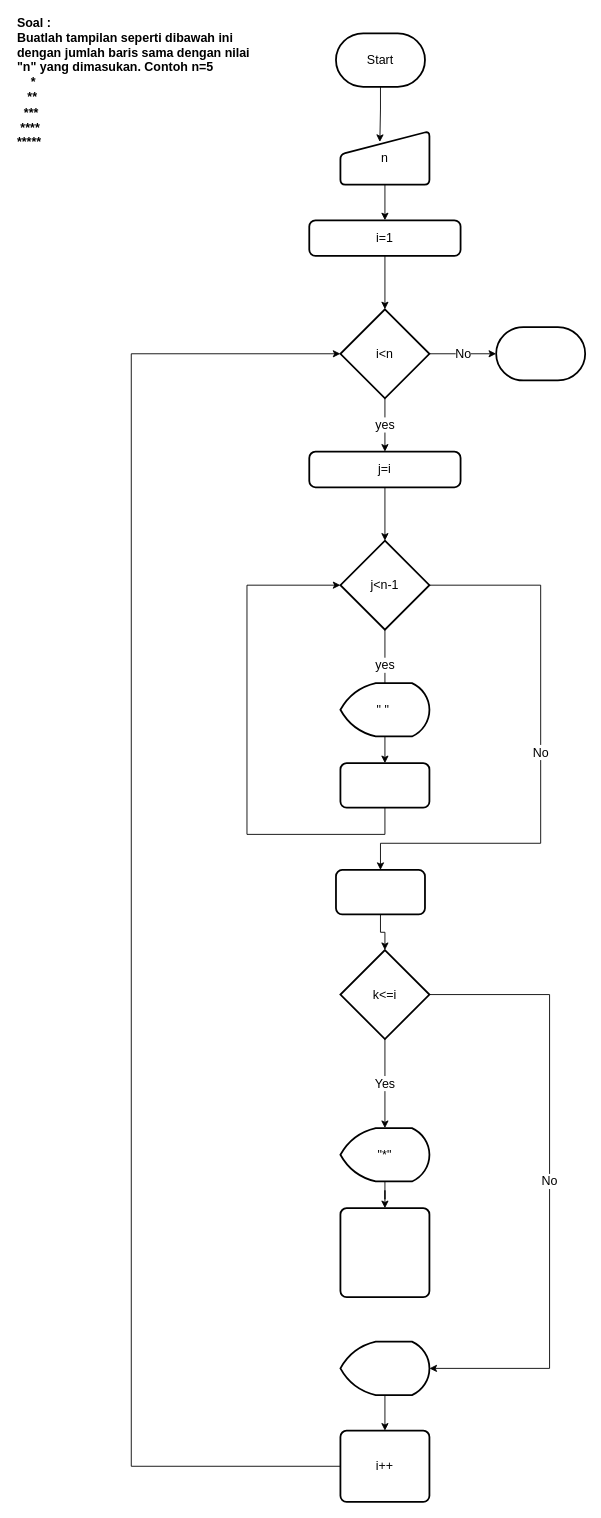
This 601x1518 diagram has some shape labels left out. Here are the shapes that lost their labels. From the top down, the box of each, then its label:
(495, 326, 586, 381): Stop
(339, 762, 430, 808): j++
(335, 869, 425, 915): k=0
(339, 1207, 430, 1298): k++
(339, 1340, 430, 1396): "\n"
